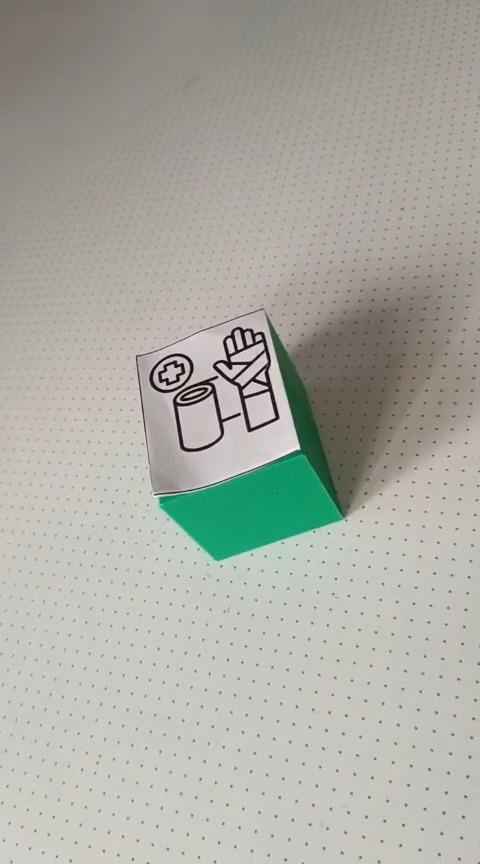Bandages: (134, 306, 344, 561)
